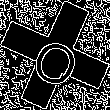O_NE: (25, 23, 85, 87)
